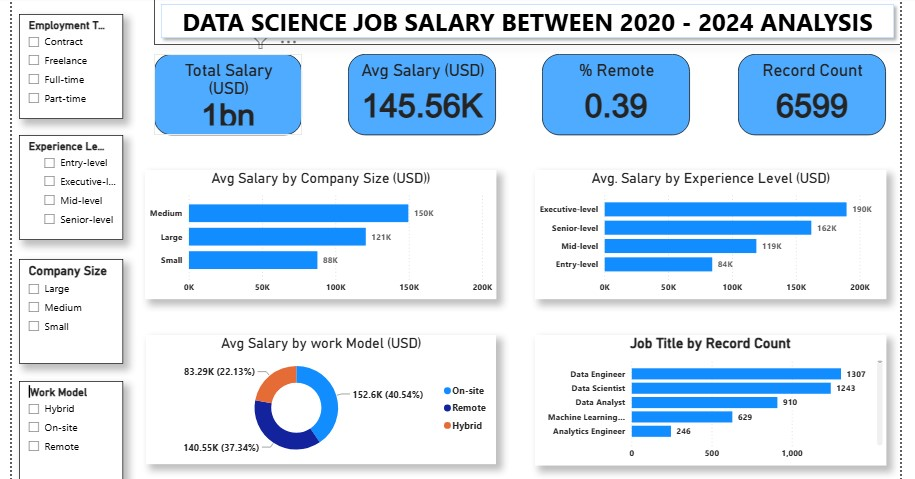

The dashboard page shown, as its layout file describes it:
{"tool":"powerbi","page":{"name":"Page 1","canvas":[1280,720],"ordinal":0},"visuals":[{"type":"clusteredBarChart","title":"Avg Salary by Company Size (USD))","fields":{"Category":["Ubong_Dataset_1.company_size"],"Y":["Ubong_Dataset_1.(USD)Avg Salary (USD)"]},"box":[191.5,248.6,505.6,186.5],"z":0},{"type":"donutChart","title":"Avg Salary by work Model (USD)","fields":{"Category":["Ubong_Dataset_1.work_models"],"Y":["Ubong_Dataset_1.(USD)Avg Salary (USD)"]},"box":[193.2,487.1,503.9,186.5],"z":1000},{"type":"clusteredBarChart","title":"Avg. Salary by Experience Level (USD)","fields":{"Category":["Ubong_Dataset_1.experience_level"],"Y":["Ubong_Dataset_1.(USD)Avg Salary (USD)"]},"box":[752.5,248.6,505.6,186.5],"z":2000},{"type":"clusteredBarChart","title":"Job Title  by Record Count","fields":{"Category":["Ubong_Dataset_1.job_title"],"Y":["Ubong_Dataset_1.Record Count"]},"box":[752.5,487.1,505.6,188.1],"z":3000},{"type":"card","title":"Total Salary (USD)","fields":{"Values":["Sum(Ubong_Dataset_1.salary)"]},"box":[204.5,82.1,213.1,116.6],"z":4000},{"type":"slicer","title":"Work Model","fields":{"Values":["Ubong_Dataset_1.work_models"]},"box":[10.1,553,149.8,151.2],"z":5000},{"type":"card","title":"Avg  Salary (USD)","fields":{"Values":["Ubong_Dataset_1.(USD)Avg Salary (USD)"]},"box":[483.8,82.1,213.1,116.6],"z":6000},{"type":"card","title":"% Remote","fields":{"Values":["Ubong_Dataset_1.Pct Remote"]},"box":[763.2,82.1,213.1,116.6],"z":7000},{"type":"card","title":"Record Count","fields":{"Values":["Ubong_Dataset_1.Record Count"]},"box":[1045.4,82.1,213.1,116.6],"z":8000},{"type":"slicer","title":"Work Model","fields":{"Values":["Ubong_Dataset_1.company_size"]},"box":[10.1,377.3,149.8,151.2],"z":9000},{"type":"slicer","title":"Work Model","fields":{"Values":["Ubong_Dataset_1.experience_level","Ubong_Dataset_1.experience_level"]},"box":[10.1,198.7,149.8,151.2],"z":10000},{"type":"slicer","title":"Work Model","fields":{"Values":["Ubong_Dataset_1.employment_type"]},"box":[10.1,24.5,149.8,151.2],"z":11000},{"type":"shape","box":[204.5,0,1075.7,69.1],"z":12000}]}

Visuals, with their boxes on the page's 1280x720 design canvas (x1, y1, x2, y2). These are canvas units, not pixel positions in the 915x479 screenshot, which may show the page scaled, cropped or inside an application window:
"Avg Salary by Company Size (USD))" clusteredBarChart: 192:249:697:435
"Avg Salary by work Model (USD)" donutChart: 193:487:697:674
"Avg. Salary by Experience Level (USD)" clusteredBarChart: 752:249:1258:435
"Job Title  by Record Count" clusteredBarChart: 752:487:1258:675
"Total Salary (USD)" card: 204:82:418:199
"Work Model" slicer: 10:553:160:704
"Avg  Salary (USD)" card: 484:82:697:199
"% Remote" card: 763:82:976:199
"Record Count" card: 1045:82:1258:199
"Work Model" slicer: 10:377:160:528
"Work Model" slicer: 10:199:160:350
"Work Model" slicer: 10:24:160:176
shape: 204:0:1280:69
